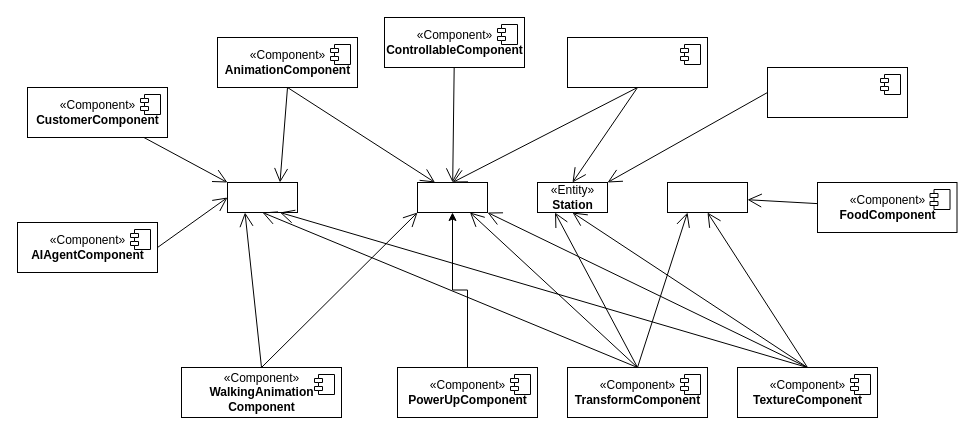
This 975x435 diagram has some shape labels left out. Each missing label, with the centre of its shape:
«Component» B2dBodyComponent: the point at 637,62
«Component» StationComponent: the point at 837,92
«Entity» Cook: the point at 452,197
«Entity» Customer: the point at 262,197
«Entity» Food: the point at 707,197
